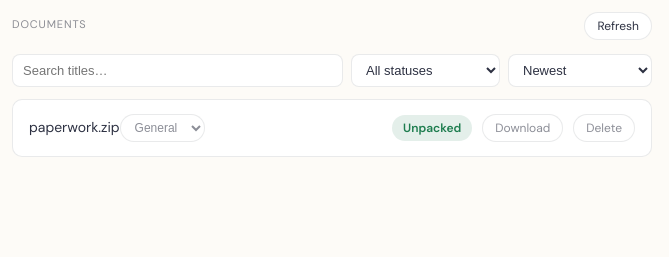
Test: DocumentsView delete flow (docs/21 §1.4/§1.9) › warns about non-cascading deletion for an unpacked archive parent
Check: the text "paperwork.zip" is shown, box [29,118,120,136]
Click the button with aria-label "Delete paperwork.zip": (604, 128) [573,114,635,142]
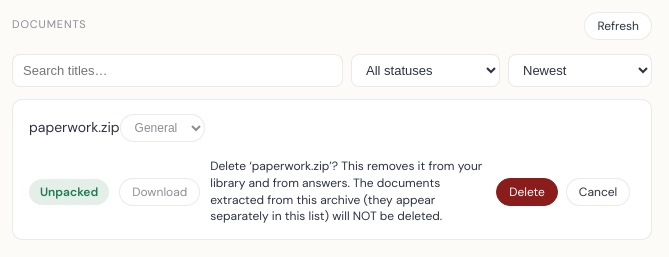
Check: the text "will NOT be deleted" is shown, box [210,175,442,224]
